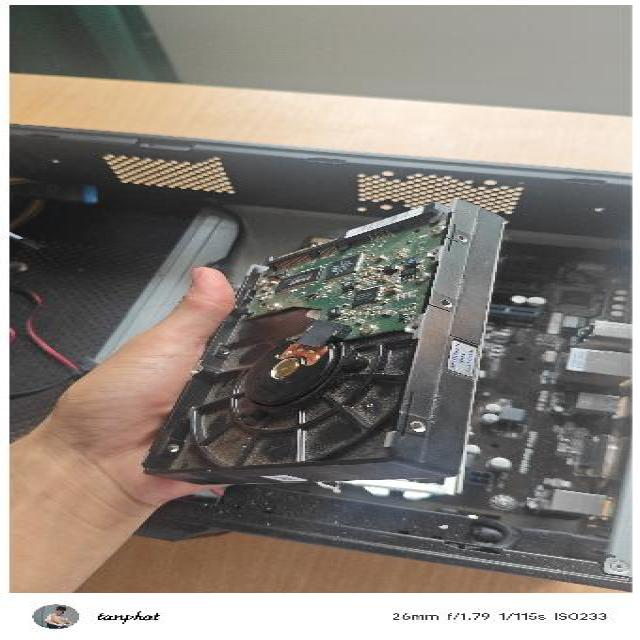DISK: (136, 194, 508, 486)
